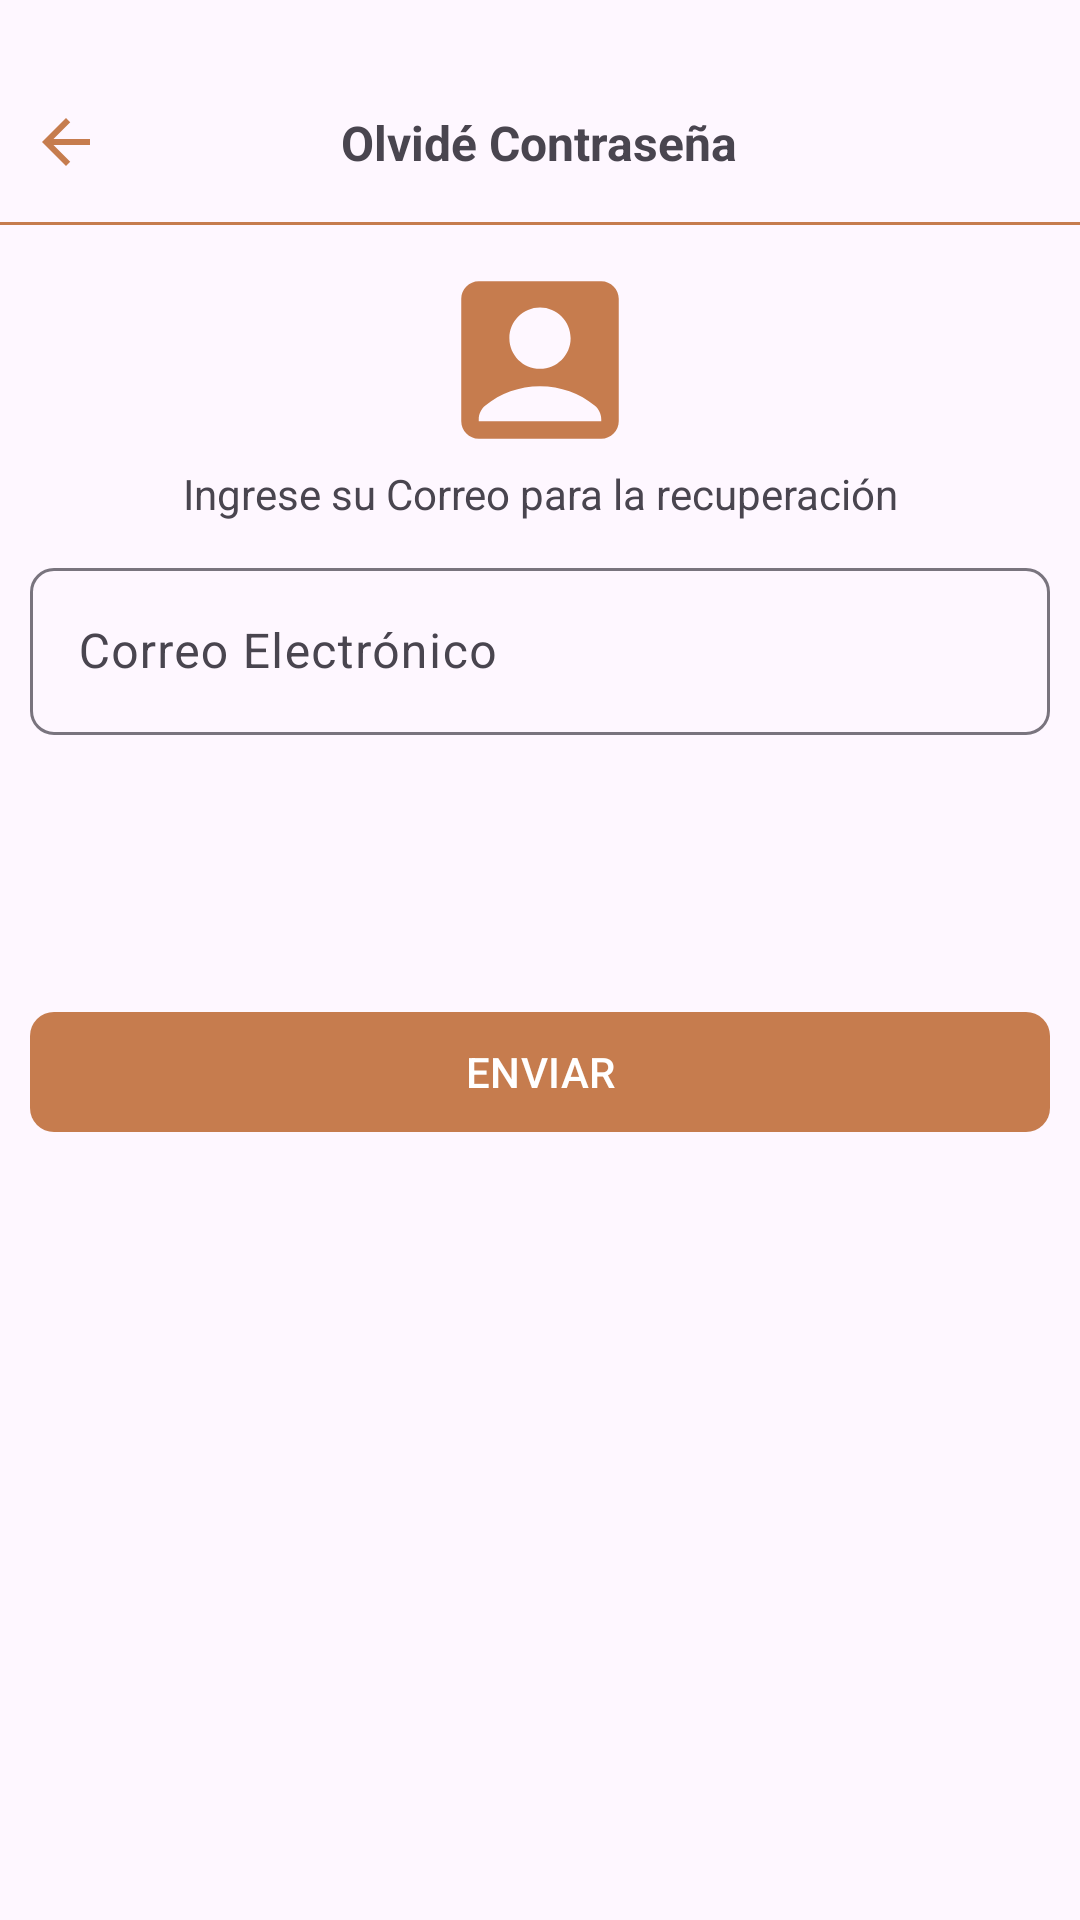

Where icons sit on this 1080x1920 app screen, as (x1,y1,x2,y2):
regresar: (42,118,90,166)
